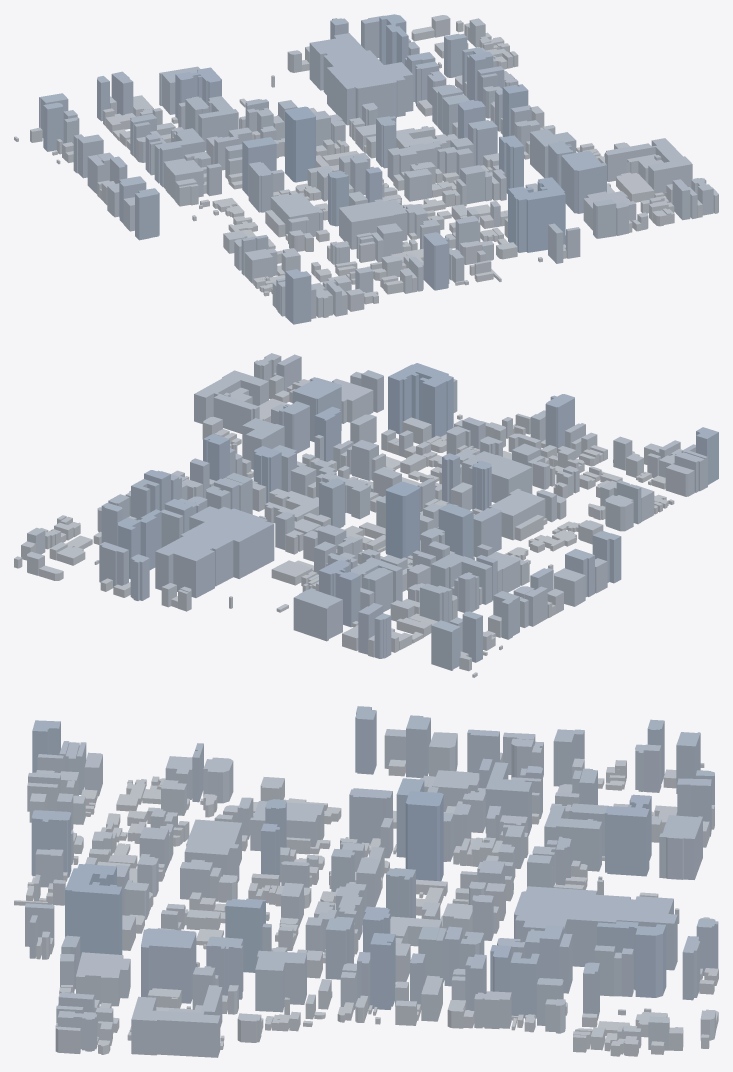
3 views of the same model, one above another, from view 1: azimuth 30°, elevation 25°; view 2: azimuth 150°, elevation 25°; view 3: azimuth 270°, elevation 25° (orthographic). The views are drawn at different scales.
Bounding box in the file's own units: 512 × 64.41 × 514.
